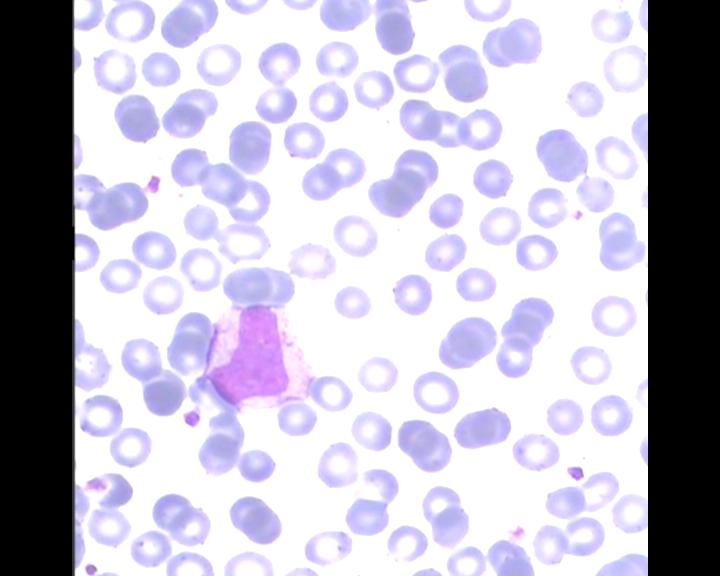mono: (197, 303, 315, 412)
